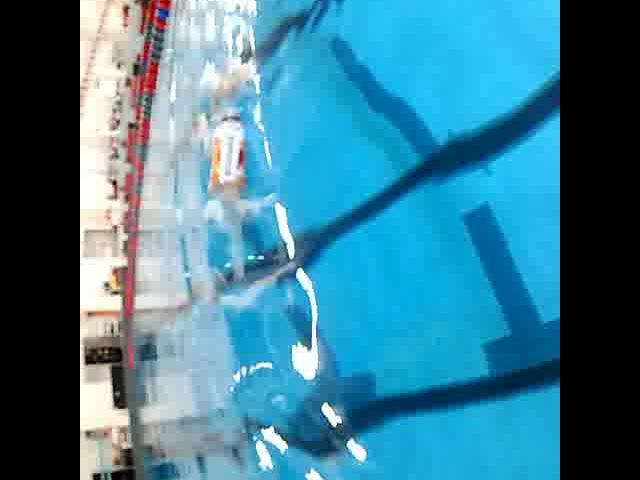Bottle: (203, 94, 251, 210)
